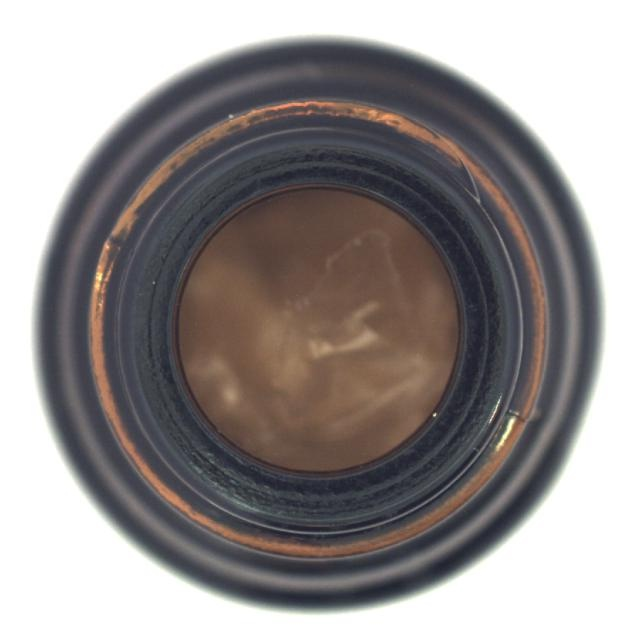bad-contamination: (31, 34, 606, 614)
